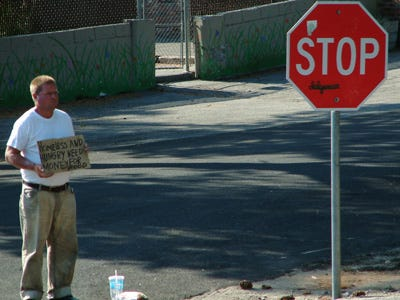stop: (291, 11, 382, 99)
